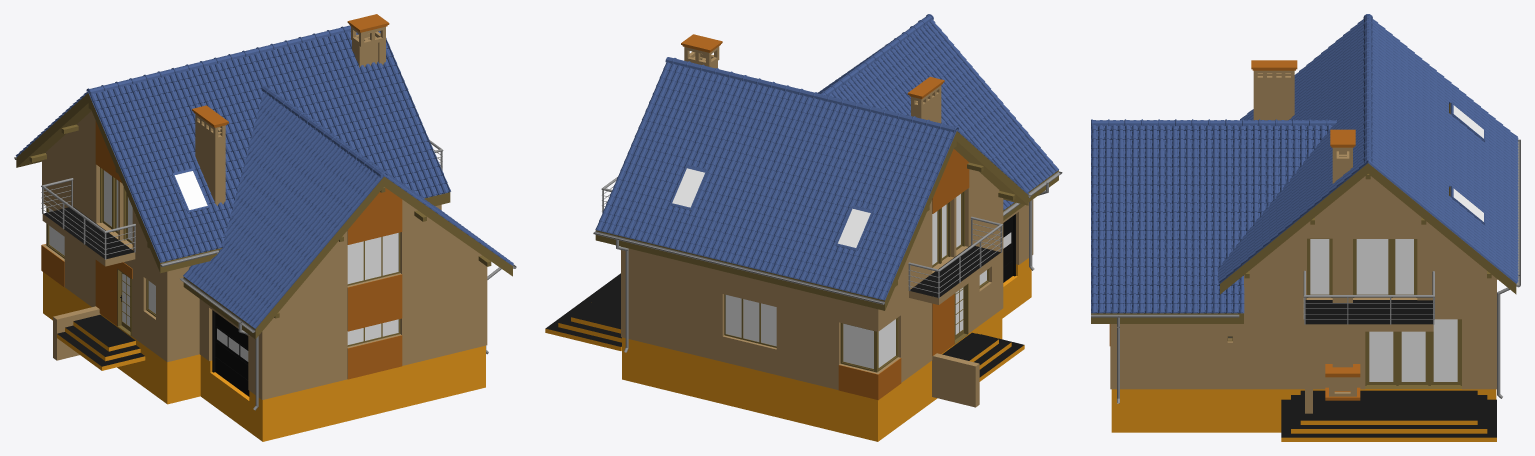
File: house.FBX
The picture shows the model from 3 angles, left to right: view 1: azimuth 30°, elevation 25°; view 2: azimuth 150°, elevation 25°; view 3: azimuth 270°, elevation 25°; orthographic projection. The views are drawn at different scales.
Visible parts, largest first — view 1: Group01, ATiles002, ATiles003, ATiles006, ATiles005, ATiles004; view 2: Group01, ATiles001, ATiles003, ATiles006, ATiles005; view 3: Group01, ATiles004, ATiles001, ATiles002, ATiles005, ATiles006.
Boxes of the visible parts, bbox=[...] form: Group01: bbox=[14, 14, 516, 441]; ATiles002: bbox=[88, 26, 450, 262]; ATiles003: bbox=[183, 85, 383, 328]; ATiles006: bbox=[86, 25, 350, 94]; ATiles005: bbox=[261, 86, 387, 177]; ATiles004: bbox=[265, 86, 513, 265]; Group01: bbox=[545, 34, 1062, 441]; ATiles001: bbox=[595, 57, 956, 300]; ATiles003: bbox=[821, 15, 1058, 210]; ATiles006: bbox=[665, 57, 958, 132]; ATiles005: bbox=[820, 14, 933, 95]; Group01: bbox=[1091, 60, 1520, 441]; ATiles004: bbox=[1091, 120, 1336, 313]; ATiles001: bbox=[1368, 16, 1518, 283]; ATiles002: bbox=[1218, 15, 1368, 283]; ATiles005: bbox=[1091, 119, 1336, 126]; ATiles006: bbox=[1363, 14, 1372, 163].
Size of the model in its own units: 234 by 169 by 225.
